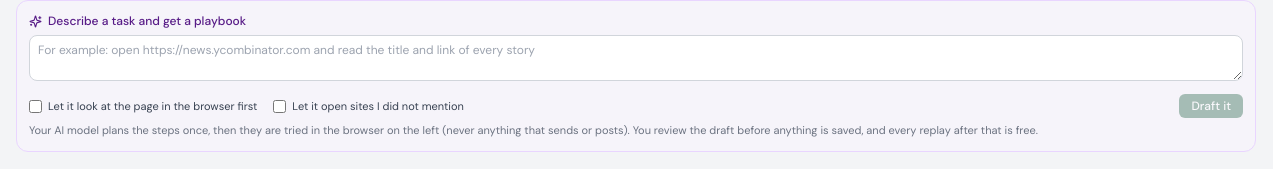
Test case: DescribeBox › steps the dialog aside while it works, showing the latest progress line with a way to stop
Type "open the list and read it" into the text box named "Describe the task".
click(636, 58); type("open the list and read it")  # box [29, 35, 1243, 81]
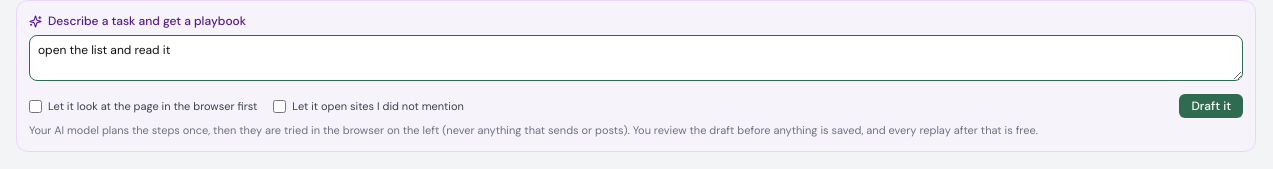
Click the button "Draft it".
click(1211, 106)  # box [1179, 94, 1243, 118]
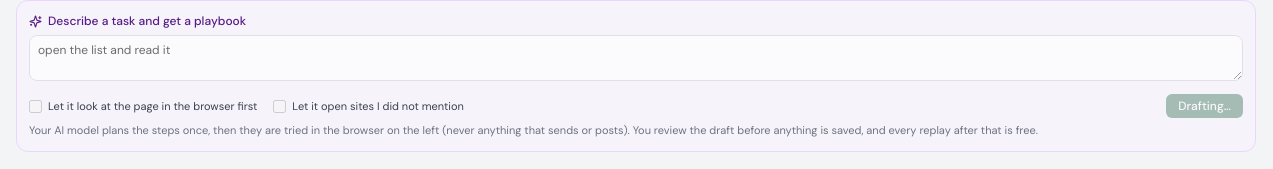
Check: the button "Drafting…" is disabled, box [1166, 94, 1243, 118]
Check: the text box named "Describe the task" is disabled, box [29, 35, 1243, 81]
